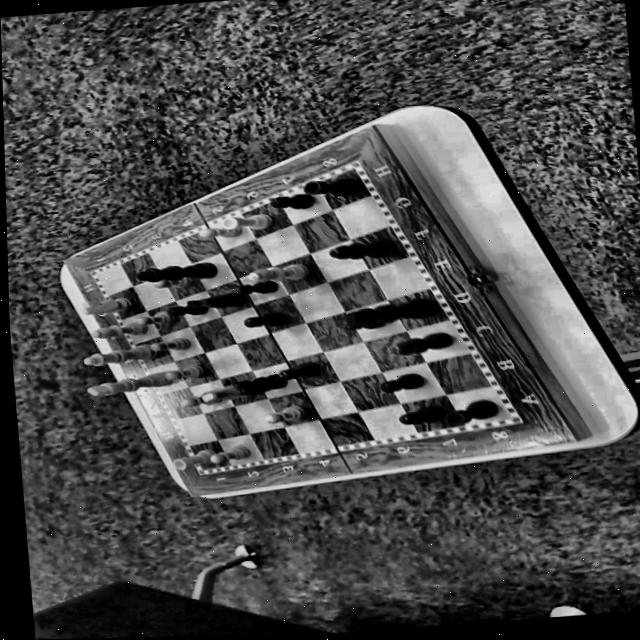chessboard: (98, 167, 509, 469)
